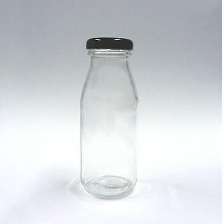bottle: (77, 34, 147, 199)
